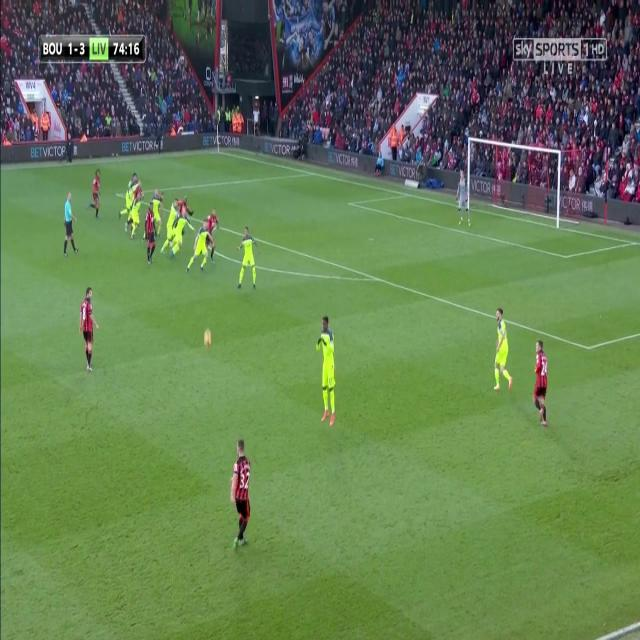Ball: (201, 322, 216, 352)
Goalkeeper: (454, 166, 472, 228)
Player: (228, 436, 252, 552), (315, 311, 336, 432), (77, 284, 101, 376), (492, 306, 514, 398), (532, 336, 552, 433), (186, 223, 216, 272), (168, 214, 196, 264), (159, 197, 180, 260), (117, 170, 138, 224), (143, 202, 157, 270), (86, 166, 102, 222), (130, 187, 144, 246), (152, 185, 164, 239)
Referee: (62, 189, 80, 259)
